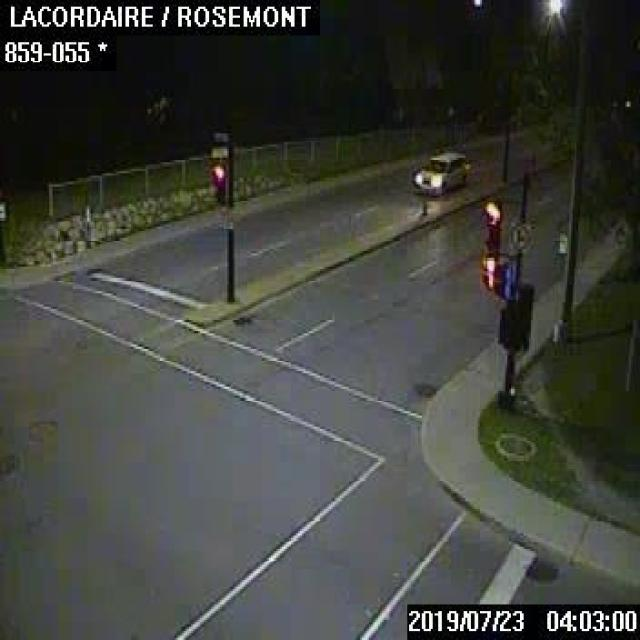vehicle: (412, 149, 466, 194)
